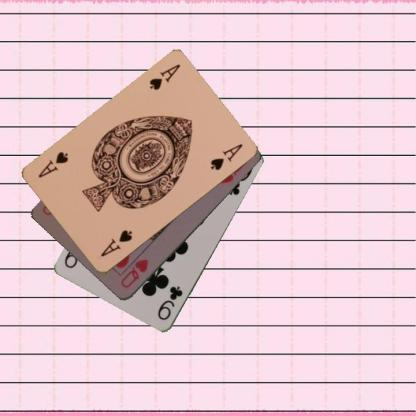9c: (154, 284, 184, 322)
As: (98, 227, 134, 259), (146, 62, 182, 92)
Qh: (118, 256, 150, 290)
